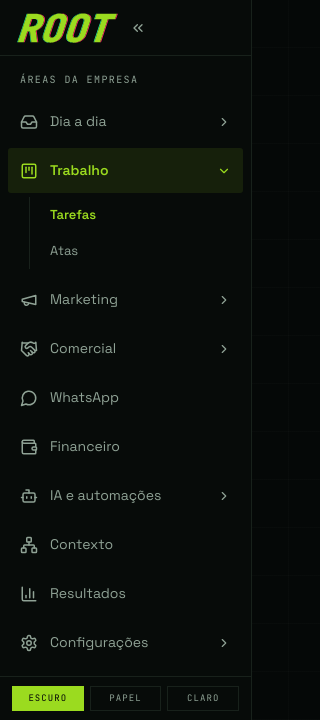
I1: o menu lateral › acordeão: clicar de novo na área aberta recolhe; de novo reabre; outra área troca; a rota continua marcada
Click the link "Trabalho" at x=126, y=170, box [8, 148, 243, 193]
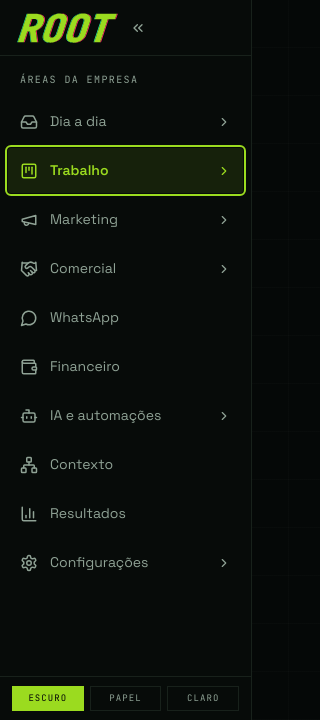
Check: the link "Trabalho" is collapsed
Click the link "Trabalho" at x=126, y=170, box [8, 148, 243, 193]
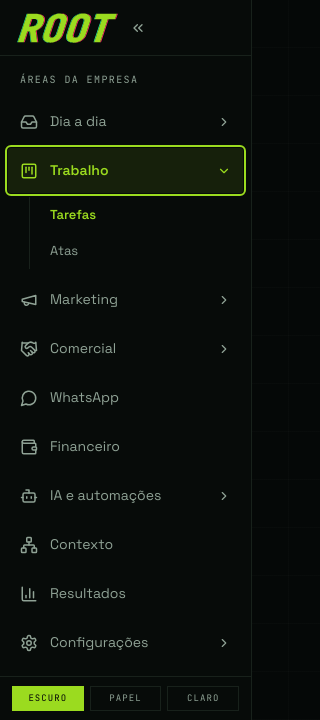
Check: the link "Trabalho" is expanded, box [8, 148, 243, 193]
Click the link "Dia a dia" at x=78, y=121, box [20, 112, 231, 130]
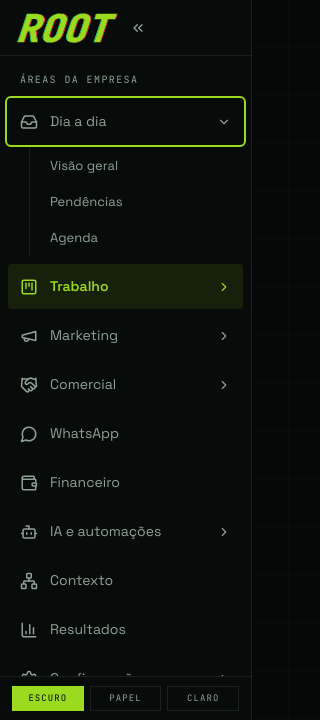
Check: the link "Dia a dia" is expanded, box [20, 112, 231, 130]
Check: the link "Trabalho" is collapsed, box [8, 264, 243, 309]
